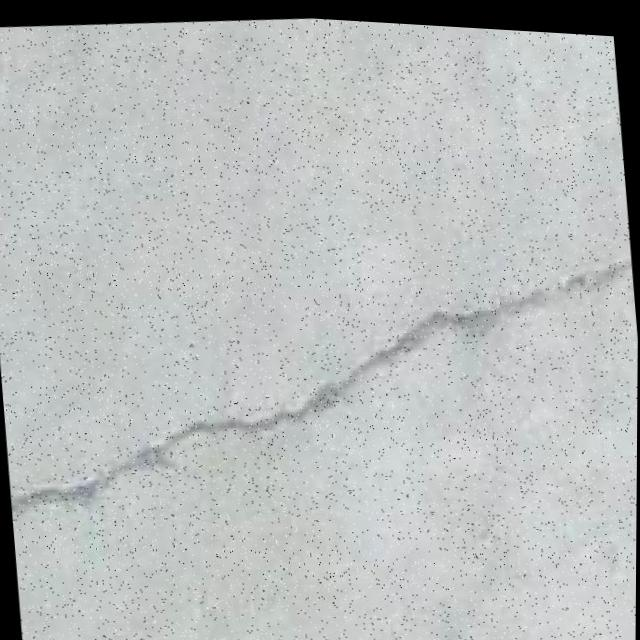Crack: (0, 206, 639, 559)
